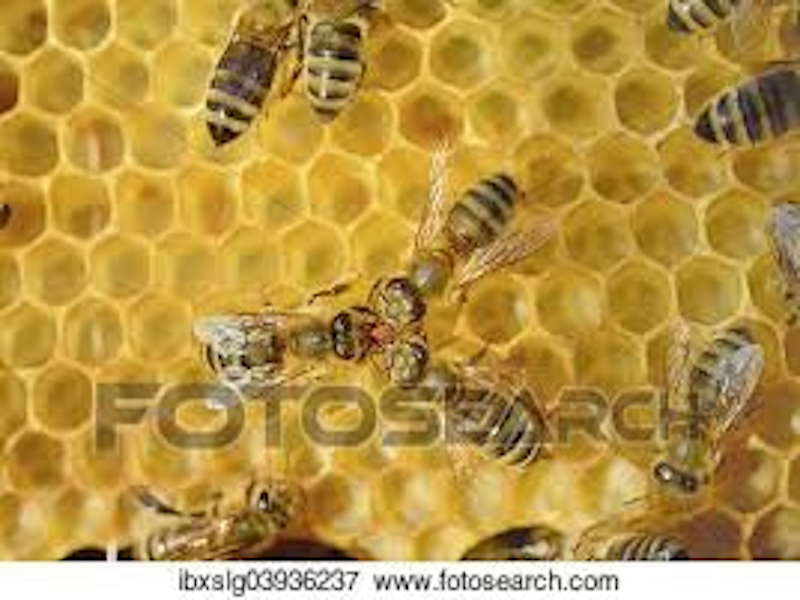abeja: (367, 328, 581, 491), (347, 152, 533, 324), (192, 297, 366, 404)
